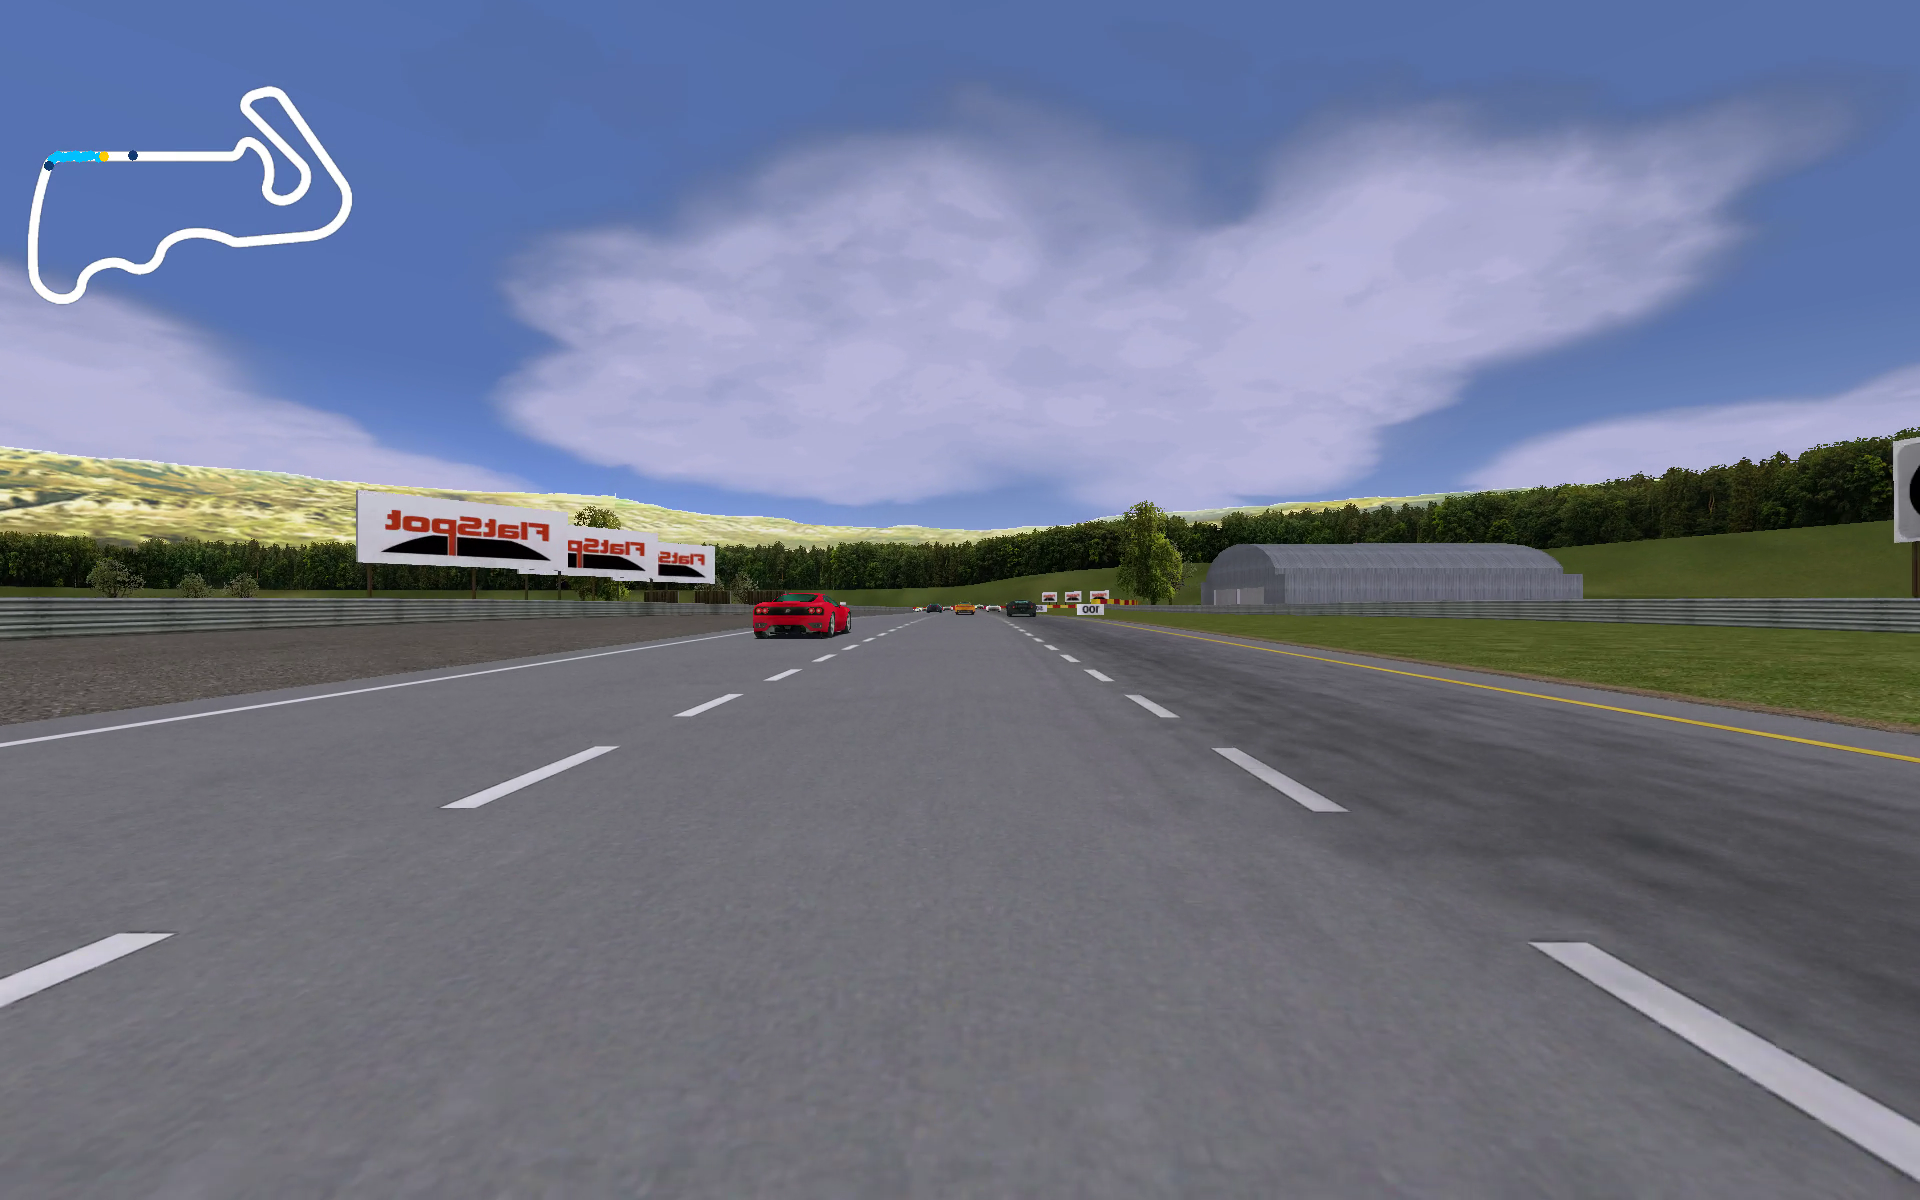car: (752, 588, 856, 637), (1002, 596, 1042, 619)
